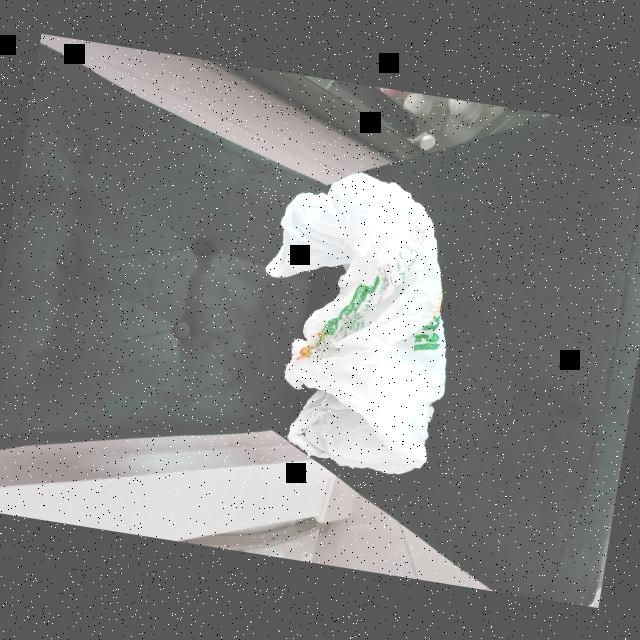plastic_bag: (232, 156, 472, 492)
